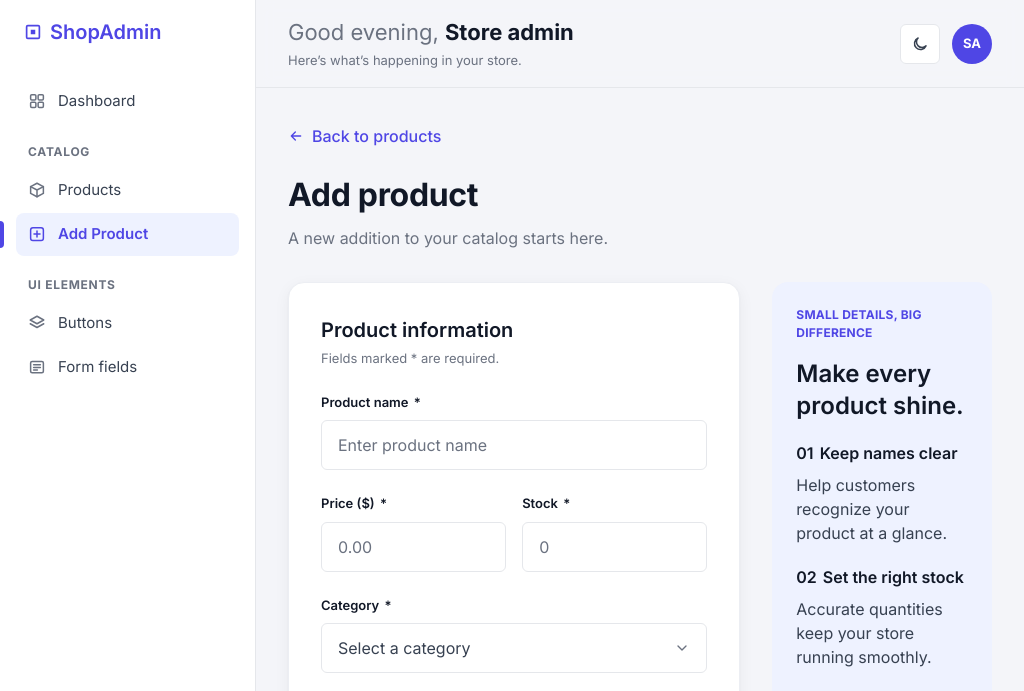
Test case: Add product › shows clear errors for invalid input
The image size is (1024, 691).
In the number field labelled "Price ($) *": (414, 547) [321,522,506,572], type "-5"
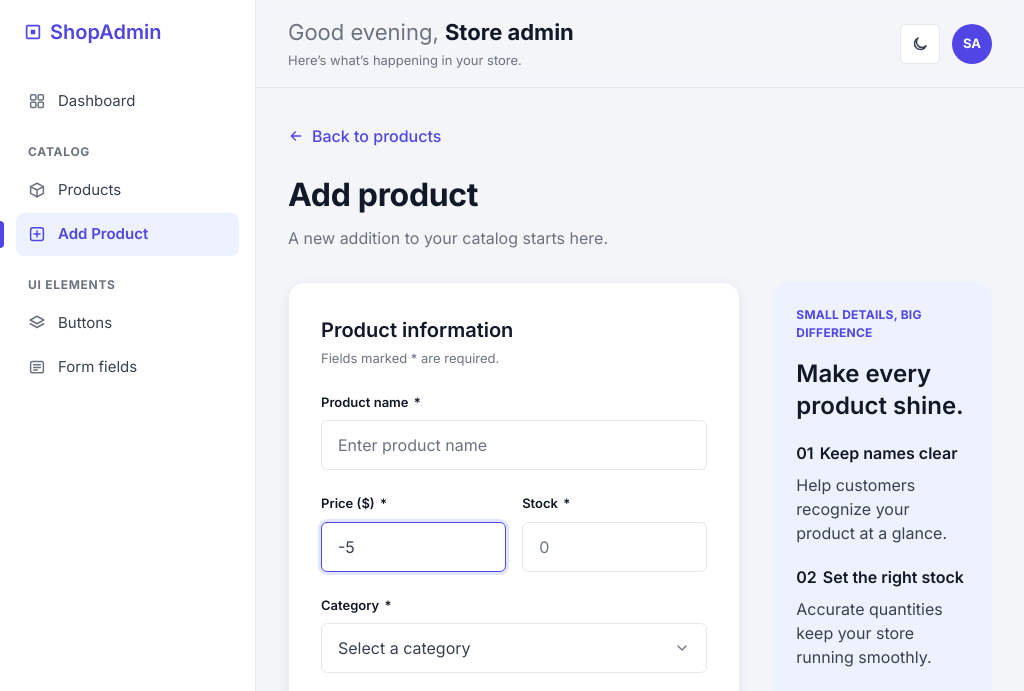
In the number field labelled "Stock *": (615, 547) [522,522,707,572], type "-3"
(page scrolled)
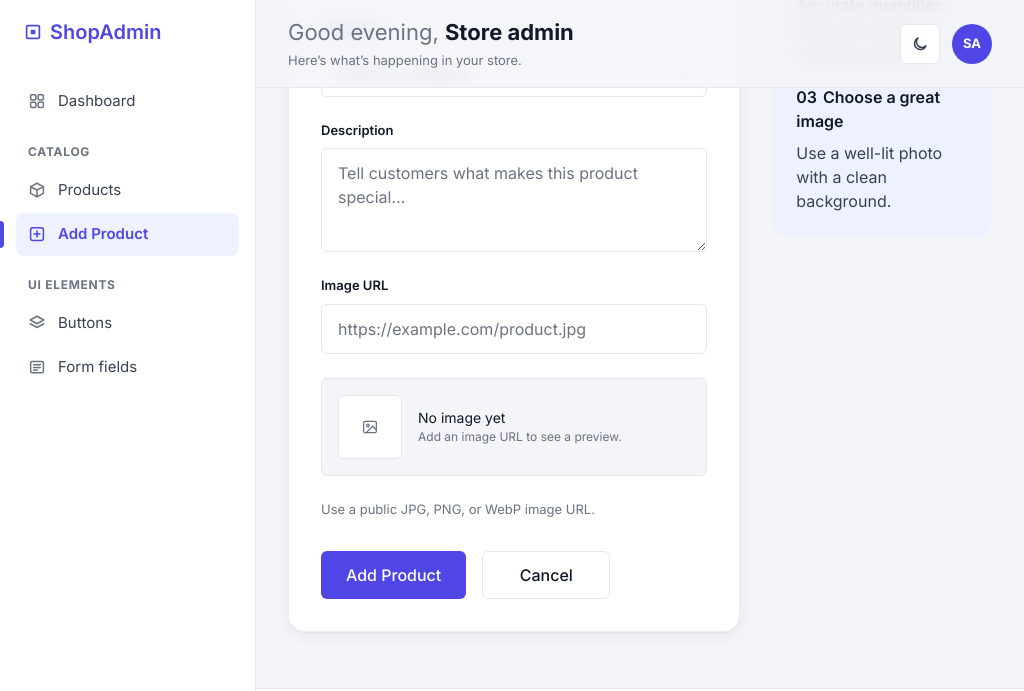
Click the button "Add Product": (394, 575) [321,551,466,599]
(page scrolled)
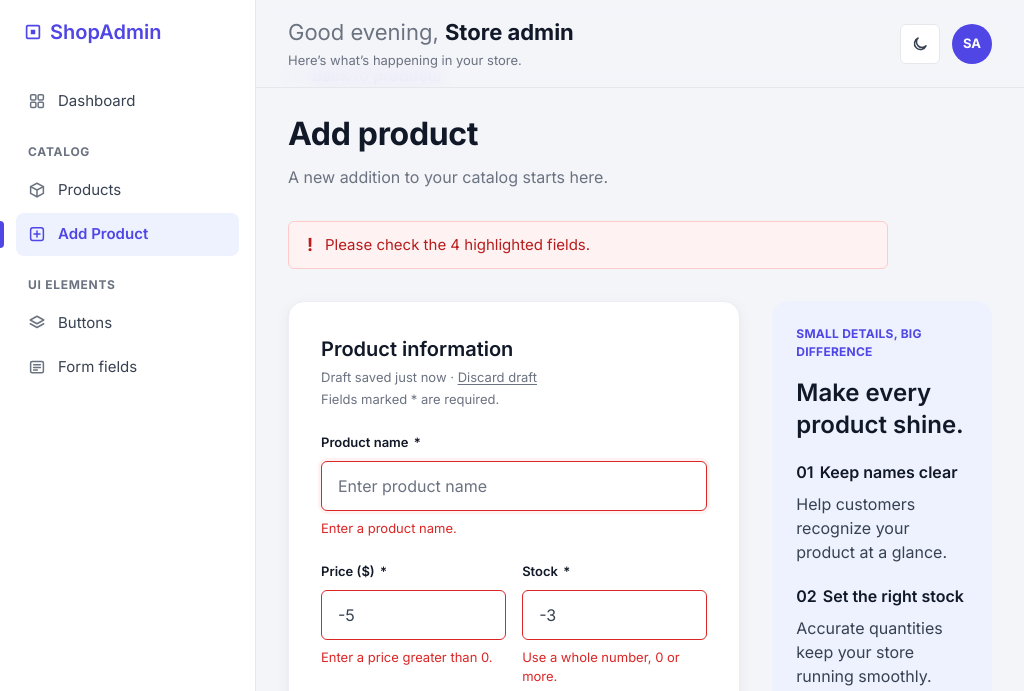
Check: the message shows "Please check the 4 highlighted fields.", box [288,221,888,269]
Check: the text "Use a whole number, 0 or more." is shown, box [522,648,707,687]
